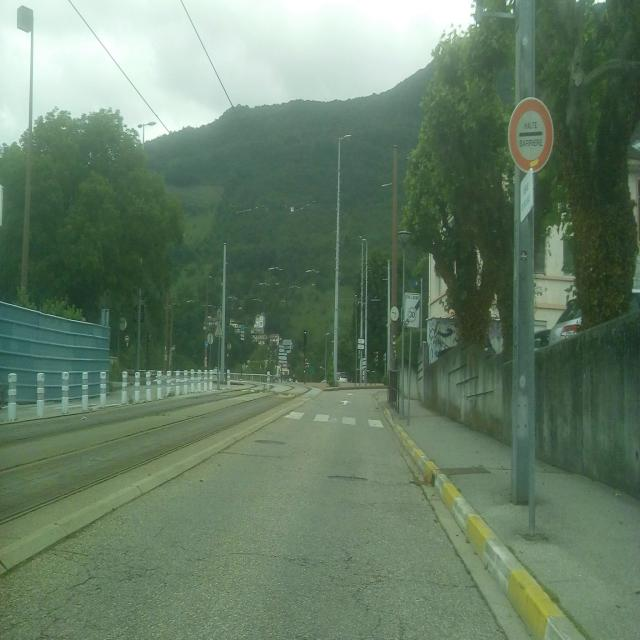car: (550, 270, 636, 344)
